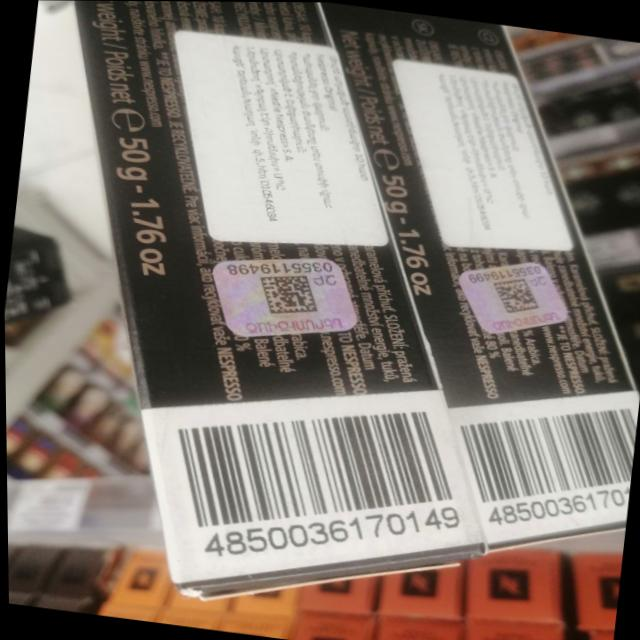datamatrix: (254, 269, 322, 320), (486, 273, 542, 317)
